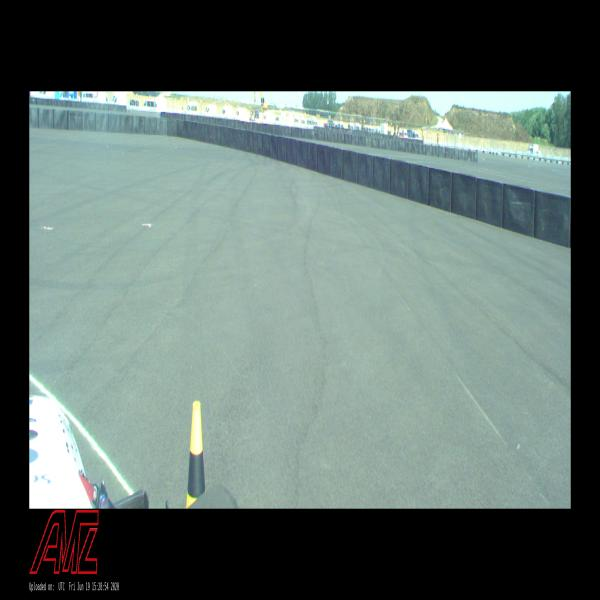yellow_cone: (187, 404, 205, 506)
